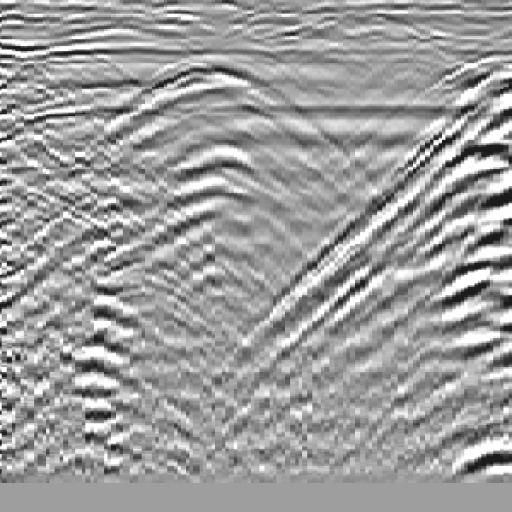metalic: (55, 21, 419, 361)
